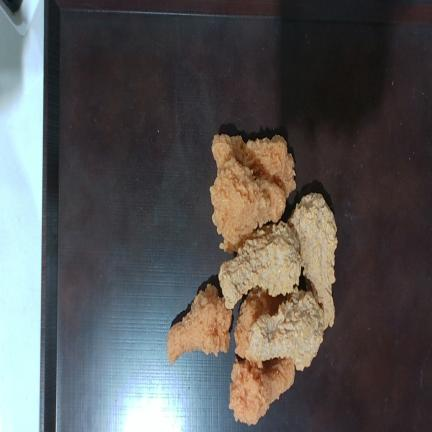chicken: (219, 221, 301, 308), (289, 193, 337, 329), (246, 289, 324, 370), (211, 169, 285, 251), (167, 284, 232, 364), (229, 358, 295, 425)
